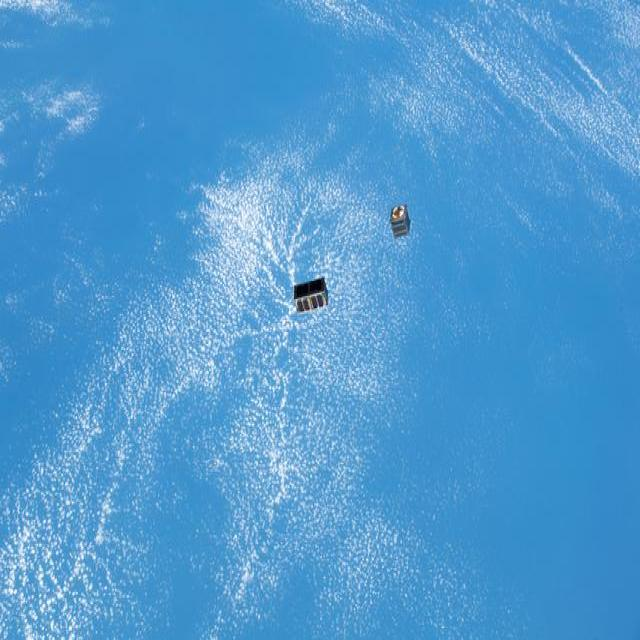satellite: (294, 278, 329, 311), (390, 205, 410, 238)
